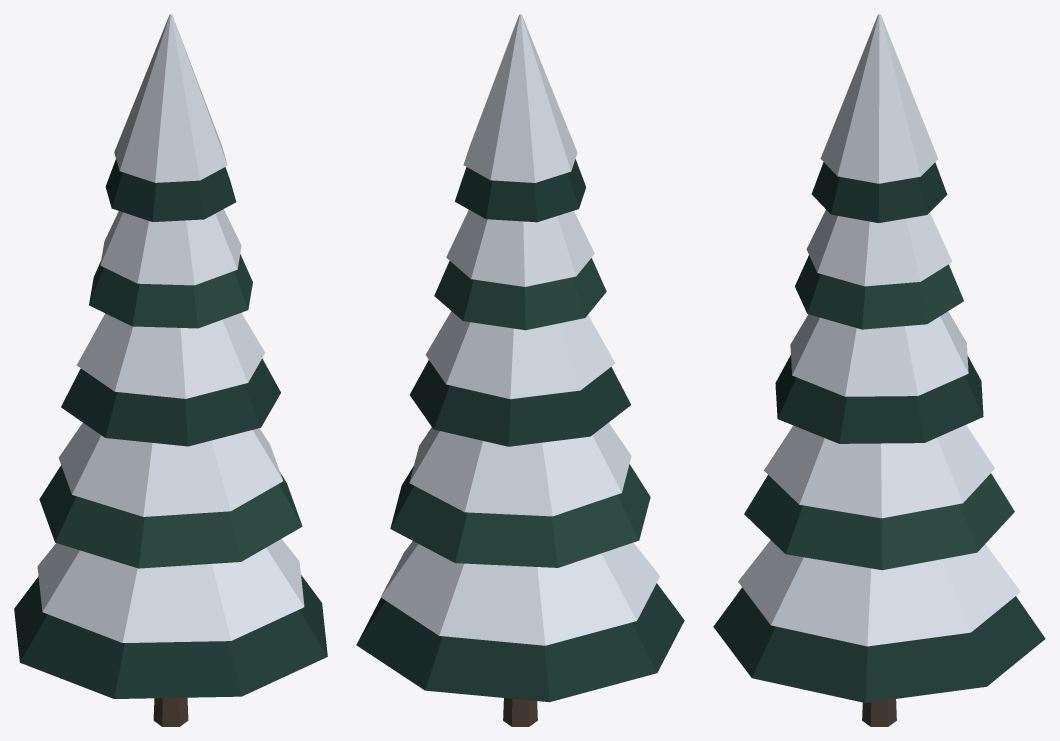
Rendered from pine.glb.
3 views of the same model, side by side, from view 1: azimuth 30°, elevation 25°; view 2: azimuth 150°, elevation 25°; view 3: azimuth 270°, elevation 25° (orthographic).
Visible parts, largest first — view 1: pine; view 2: pine; view 3: pine.
Boxes of the visible parts, x1,y1,x2,y2 form: pine: (14,14,327,726); pine: (356,14,684,726); pine: (713,14,1045,726).
Bounding box in the file's own units: 7.14 × 16.73 × 7.14.
